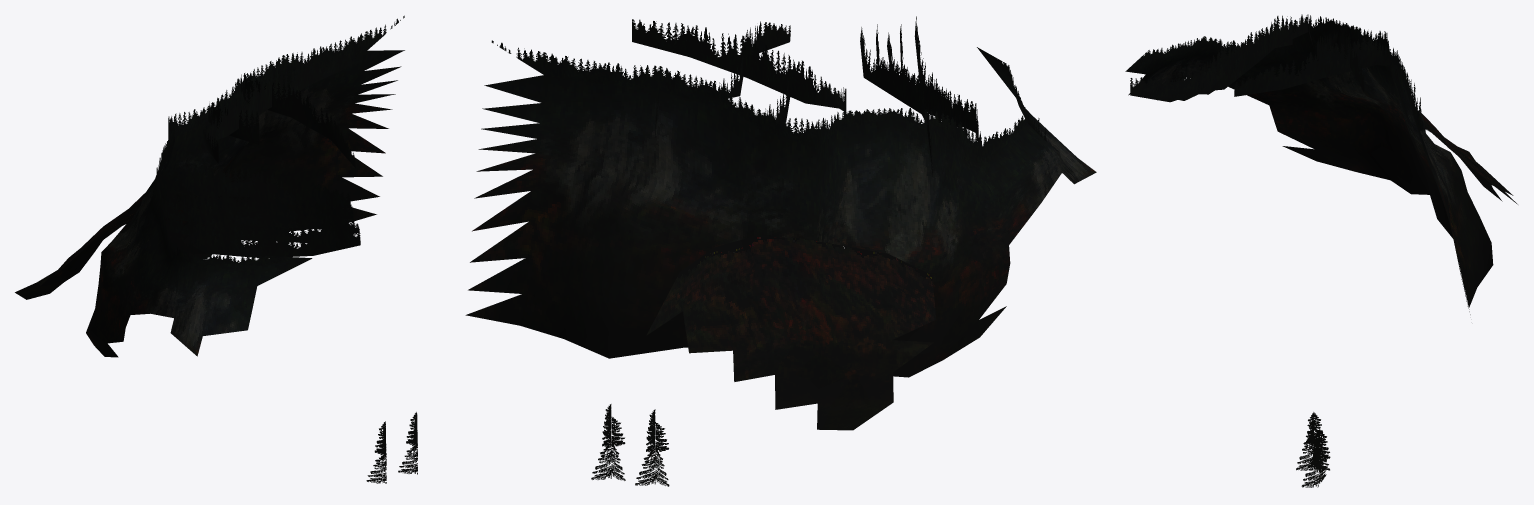
Rendered from cell_11_-14.gltf.
3 renders of one model, left to right at view 1: azimuth 30°, elevation 25°; view 2: azimuth 150°, elevation 25°; view 3: azimuth 270°, elevation 25°, orthographic. The views are drawn at different scales.
Parts seen in each view (by area): view 1: cell_11_-14; view 2: cell_11_-14; view 3: cell_11_-14.
Part boxes in pixels (x1,y1,x2,y2): cell_11_-14: (15, 15, 417, 483); cell_11_-14: (465, 16, 1096, 486); cell_11_-14: (1125, 14, 1517, 487).
Size of the model in its own units: 286 by 310 by 279.
Materials: 5 (5 with a texture image).
